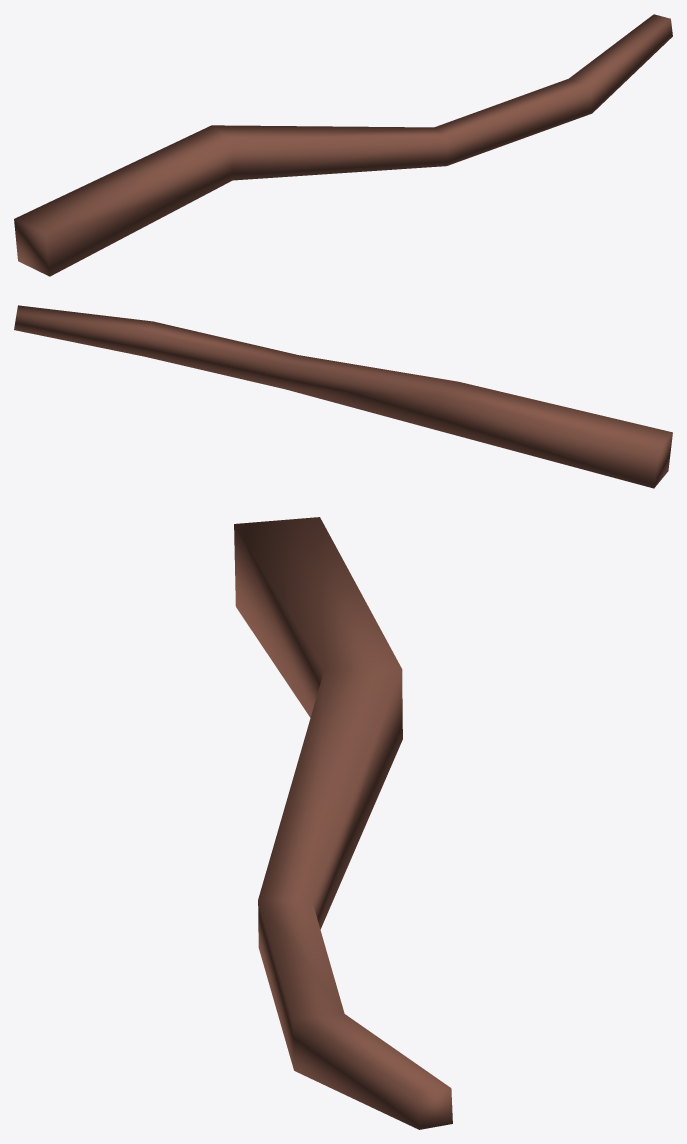
File: Stick_DarkBrown_4.fbx
3 renders of one model, top to bottom at view 1: azimuth 30°, elevation 25°; view 2: azimuth 150°, elevation 25°; view 3: azimuth 270°, elevation 25°, orthographic. The views are drawn at different scales.
Parts seen in each view (by area): view 1: Stick_DarkBrown_4; view 2: Stick_DarkBrown_4; view 3: Stick_DarkBrown_4.
Part boxes in pixels (x1,y1,x2,y2): Stick_DarkBrown_4: (14, 14, 672, 276); Stick_DarkBrown_4: (14, 305, 672, 488); Stick_DarkBrown_4: (234, 517, 452, 1129).
Bounding box in the file's own units: 190 × 17.7 × 29.14.
